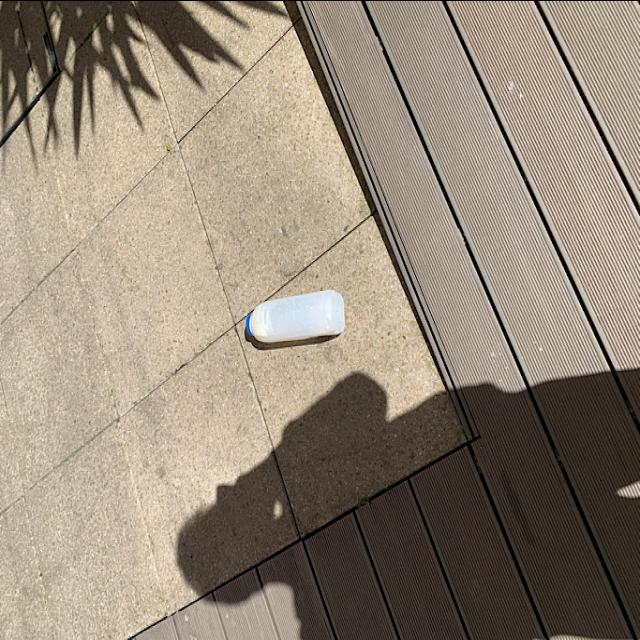HDPEM: (244, 288, 348, 344)
